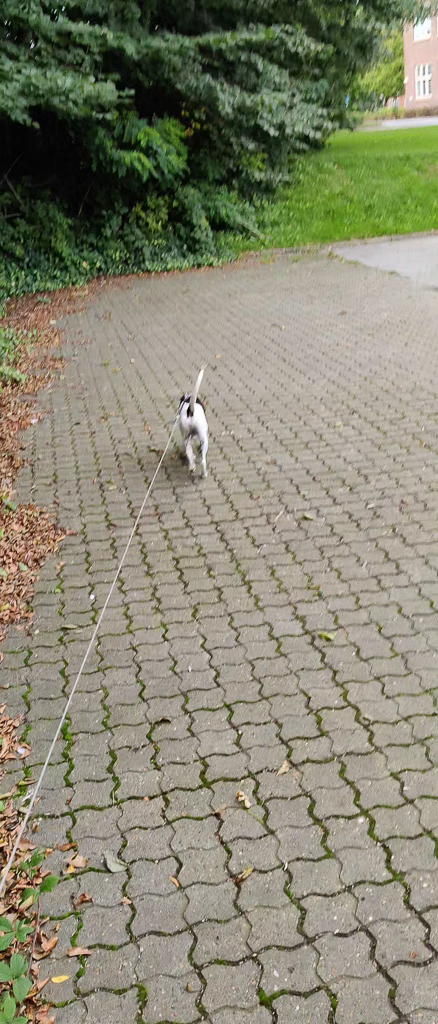Dog: (156, 365, 234, 486)
